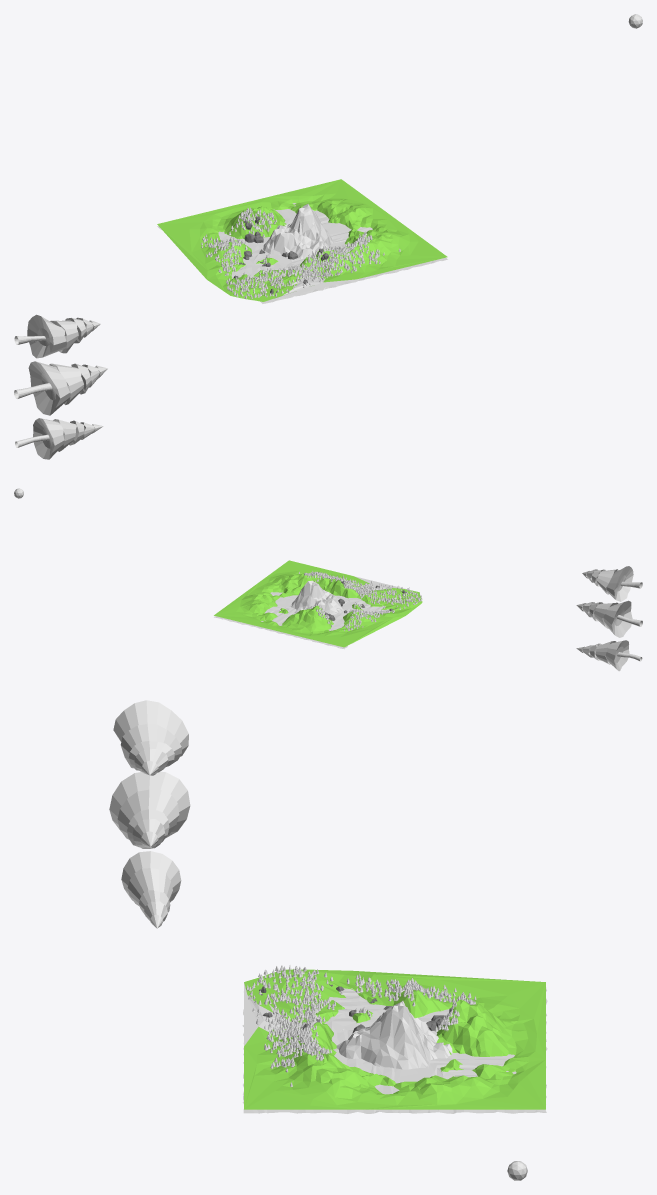
File: low-poly-scenery-hills-and-lake.fbx
The picture shows the model from 3 angles, top to bottom: view 1: azimuth 30°, elevation 25°; view 2: azimuth 150°, elevation 25°; view 3: azimuth 270°, elevation 25°; orthographic projection. The views are drawn at different scales.
Parts seen in each view (by area): view 1: Landscape, tree.003, water, tree.001, tree.002; view 2: Landscape, water, tree.003, tree.001, tree.002; view 3: Landscape, water, tree.003, tree.001, tree.002.
Boxes of the visible parts, x1,y1,x2,y2 form: Landscape: (157, 179, 447, 301); tree.003: (14, 361, 107, 415); water: (157, 203, 447, 303); tree.001: (14, 314, 100, 358); tree.002: (15, 418, 103, 459); Landscape: (214, 560, 422, 647); water: (214, 592, 391, 649); tree.003: (576, 600, 642, 637); tree.001: (582, 566, 642, 601); tree.002: (576, 640, 642, 671); Landscape: (244, 969, 545, 1109); water: (242, 987, 547, 1113); tree.003: (109, 771, 190, 848); tree.001: (113, 700, 188, 775); tree.002: (121, 851, 181, 928).
Bounding box in the file's own units: 1023 × 226 × 363.
